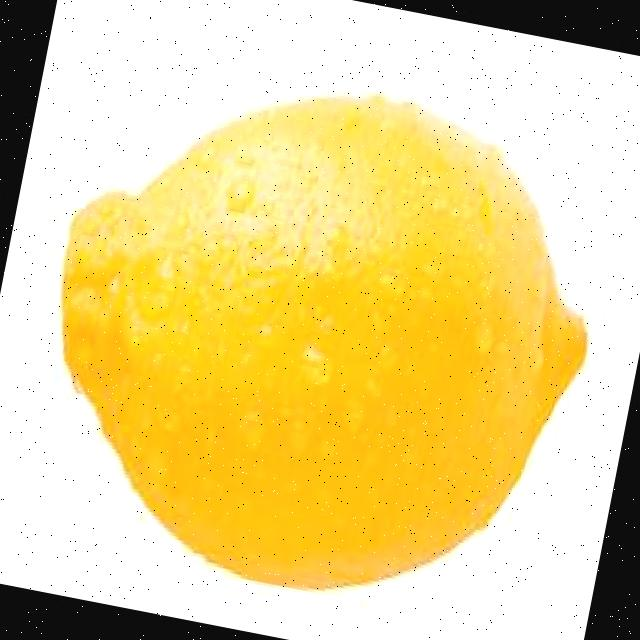Lemon: (8, 42, 632, 639)
